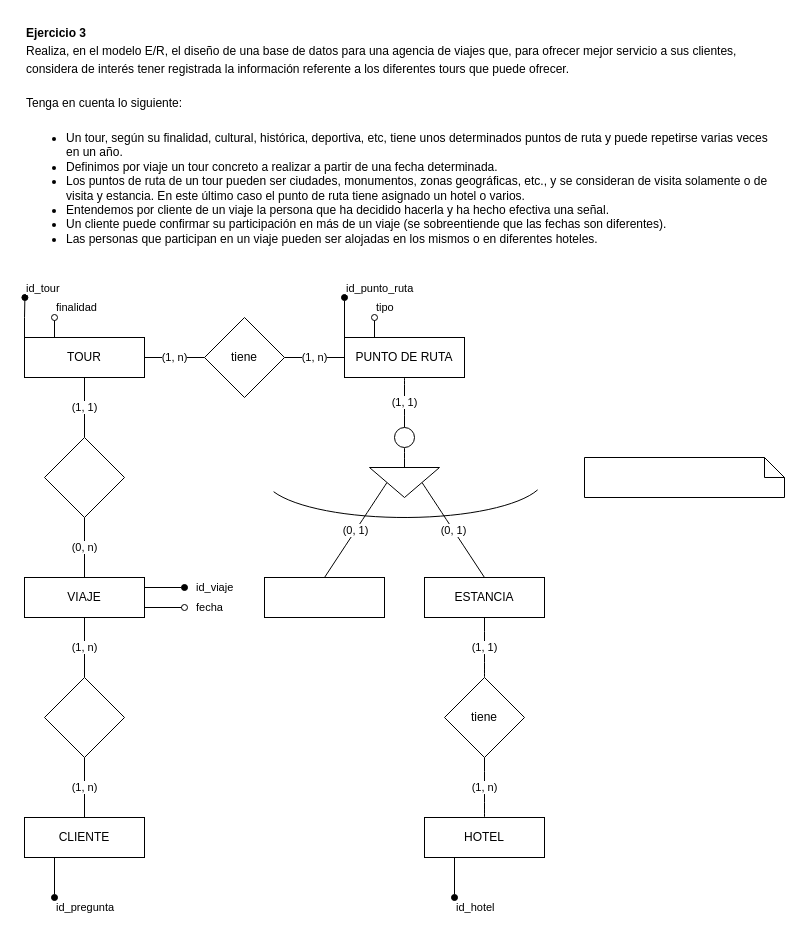
Some shapes in this 802 by 931 pixel diagram are drawn without their labels. Here are the shapes that lost their labels. From the top down, the centre of each, then its label:
At (x=84, y=477): "realiza".
At (x=684, y=477): "Relación ISA exclusiva parcial".
At (x=324, y=597): "VISITA".
At (x=84, y=717): "reserva".
